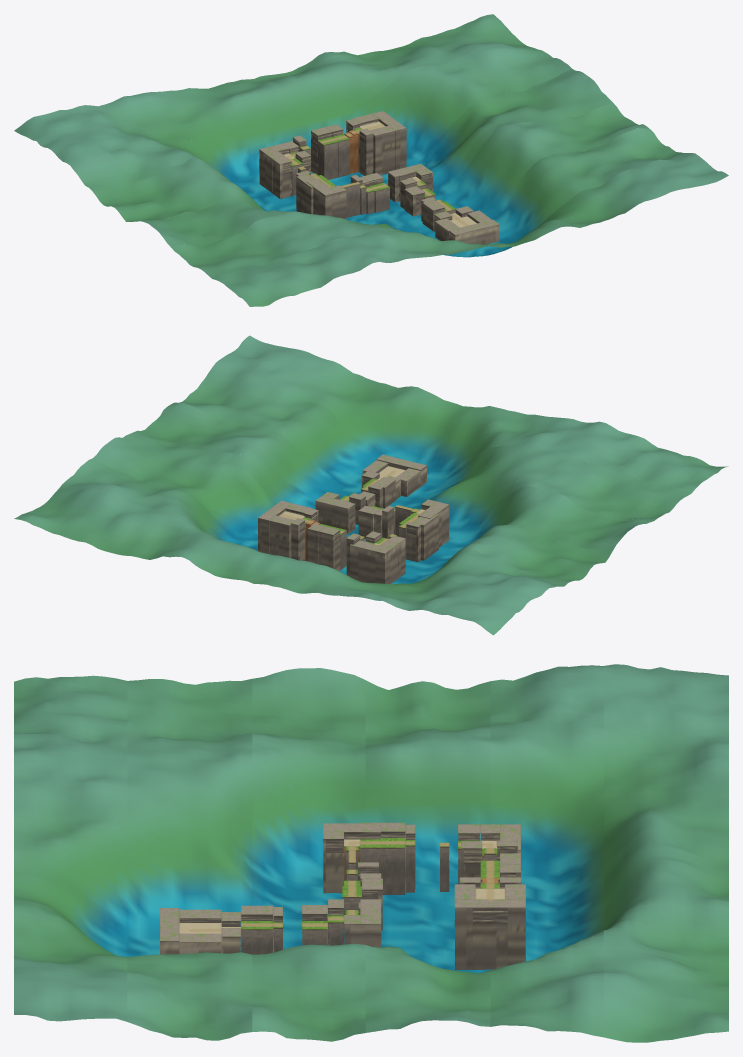
The model's file is palm_terraces_terrain.glb.
3 views of the same model, one above another, from view 1: azimuth 30°, elevation 25°; view 2: azimuth 150°, elevation 25°; view 3: azimuth 270°, elevation 25° (orthographic). The views are drawn at different scales.
Visible parts, largest first — view 1: backdrop_5, backdrop_4, backdrop_1, backdrop_0, backdrop_3, backdrop_2, terrain_H, terrain_J, terrain_I, terrain_F, terrain_D, terrain_A (+4 smaller); view 2: backdrop_0, backdrop_1, backdrop_5, backdrop_3, backdrop_2, backdrop_4, terrain_H, terrain_D, terrain_J, terrain_F, terrain_A, terrain_I (+3 smaller); view 3: backdrop_5, backdrop_1, backdrop_0, backdrop_4, backdrop_2, backdrop_3, terrain_J, terrain_F, terrain_D, terrain_A, terrain_H, terrain_B (+4 smaller).
Boxes of the visible parts, x1,y1,x2,y2 form: backdrop_5: (14, 14, 533, 153); backdrop_4: (55, 44, 571, 195); backdrop_1: (171, 128, 690, 278); backdrop_0: (213, 153, 728, 306); backdrop_3: (93, 68, 612, 221); backdrop_2: (138, 103, 649, 247); terrain_H: (259, 127, 338, 193); terrain_J: (352, 111, 406, 175); terrain_I: (326, 119, 373, 177); terrain_F: (296, 173, 346, 219); terrain_D: (362, 164, 433, 212); terrain_A: (435, 210, 499, 244); backdrop_0: (212, 335, 728, 493); backdrop_1: (172, 367, 691, 522); backdrop_5: (14, 489, 533, 635); backdrop_3: (92, 432, 612, 583); backdrop_2: (134, 403, 649, 554); backdrop_4: (55, 458, 571, 598); terrain_H: (319, 526, 398, 583); terrain_D: (315, 492, 383, 538); terrain_J: (258, 500, 312, 557); terrain_F: (399, 499, 449, 560); terrain_A: (362, 454, 426, 496); terrain_I: (291, 508, 331, 564); backdrop_5: (604, 664, 728, 1042); backdrop_1: (127, 679, 252, 1040); backdrop_0: (14, 675, 127, 1021); backdrop_4: (490, 665, 603, 1037); backdrop_2: (252, 668, 365, 1041); backdrop_3: (365, 680, 490, 1032); terrain_J: (454, 884, 525, 969); terrain_F: (323, 822, 405, 894); terrain_D: (328, 878, 382, 947); terrain_A: (160, 908, 221, 954); terrain_H: (461, 824, 520, 888); terrain_B: (221, 905, 273, 954).
Size of the model in its own units: 518 by 62.06 by 441.
